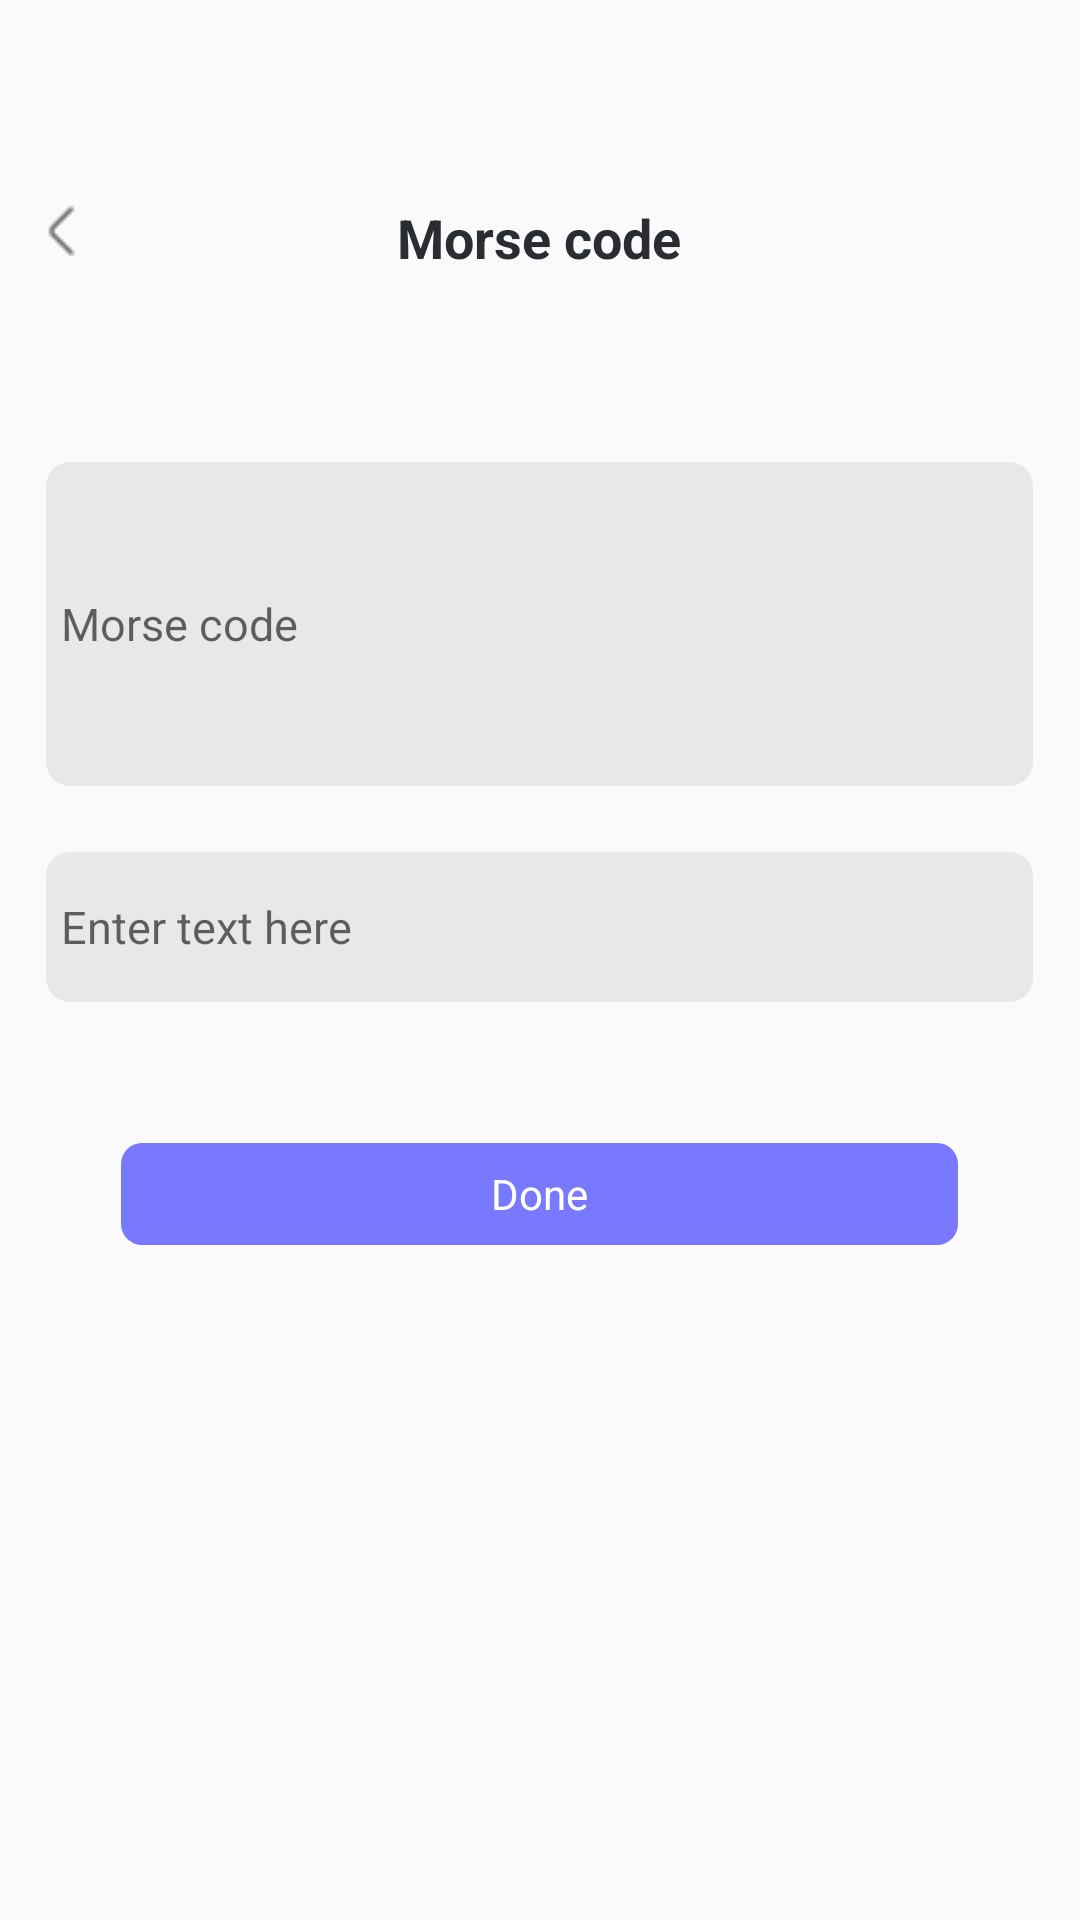

Screen size 1080 × 1920. Icon name, then its box in pixels as (x1, y1, x2, y2):
arrow left: (48, 206, 75, 256)
